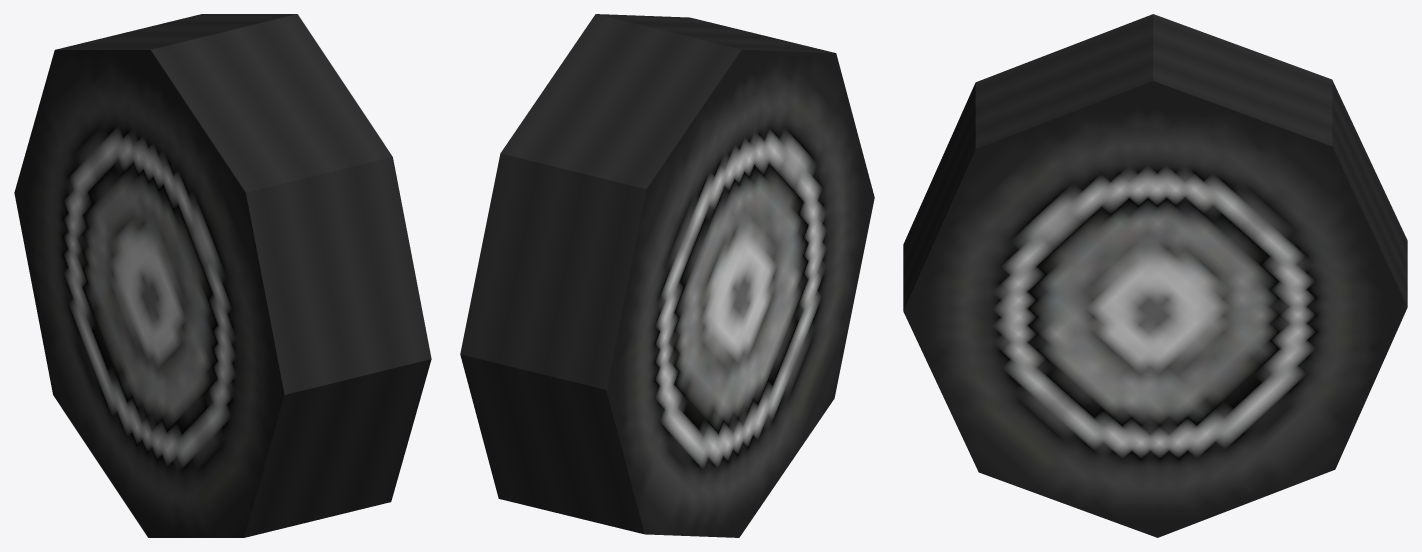
Rendered from Wheel5.obj.
The picture shows the model from 3 angles, left to right: view 1: azimuth 30°, elevation 25°; view 2: azimuth 150°, elevation 25°; view 3: azimuth 270°, elevation 25°; orthographic projection. The views are drawn at different scales.
Parts seen in each view (by area): view 1: Car5.001; view 2: Car5.001; view 3: Car5.001.
Boxes of the visible parts, x1=… form: Car5.001: x1=14, y1=14, x2=431, y2=537; Car5.001: x1=460, y1=14, x2=874, y2=537; Car5.001: x1=903, y1=14, x2=1407, y2=537.
Bounding box in the file's own units: 0.3187 × 1.01 × 1.01.
Materials: 1 (1 with a texture image).
